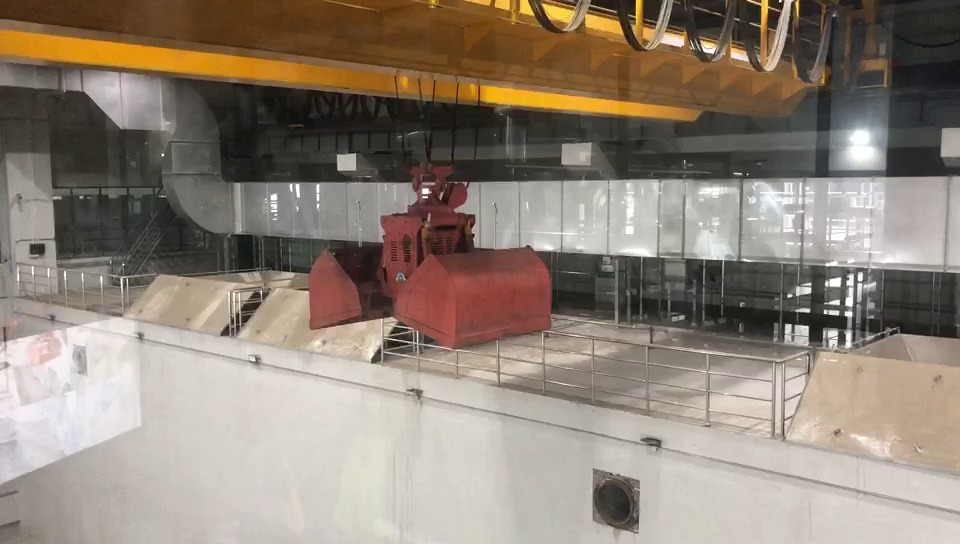grab: (301, 155, 557, 351)
